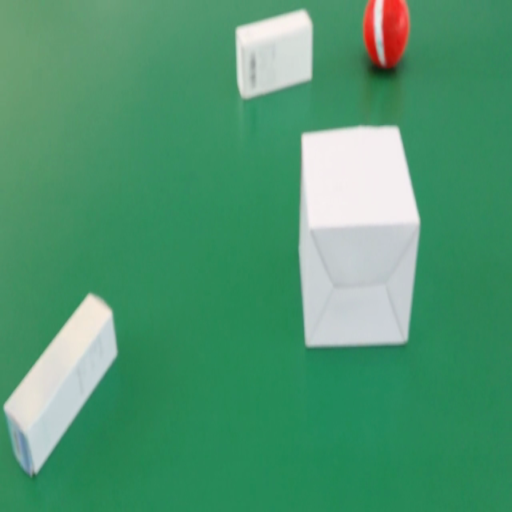ball: (360, 0, 408, 66)
